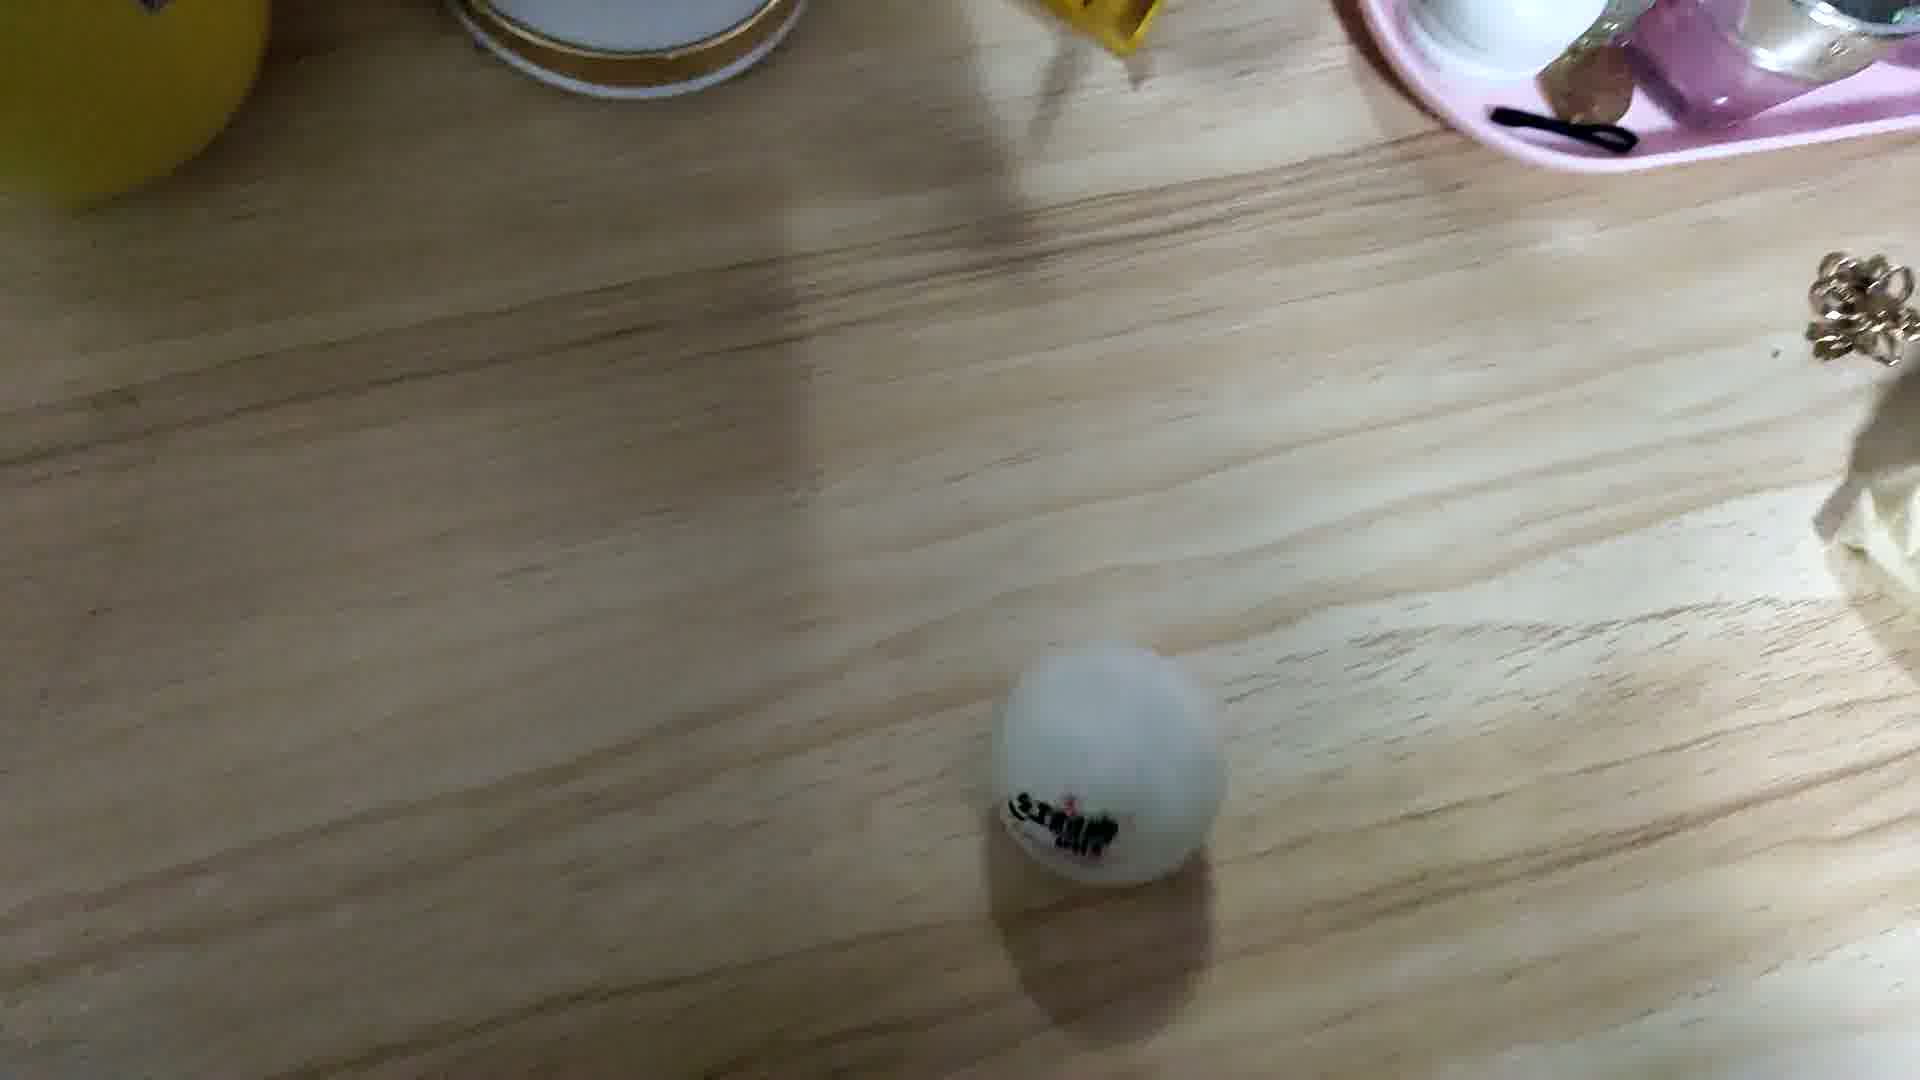Ball: (992, 642, 1230, 887)
